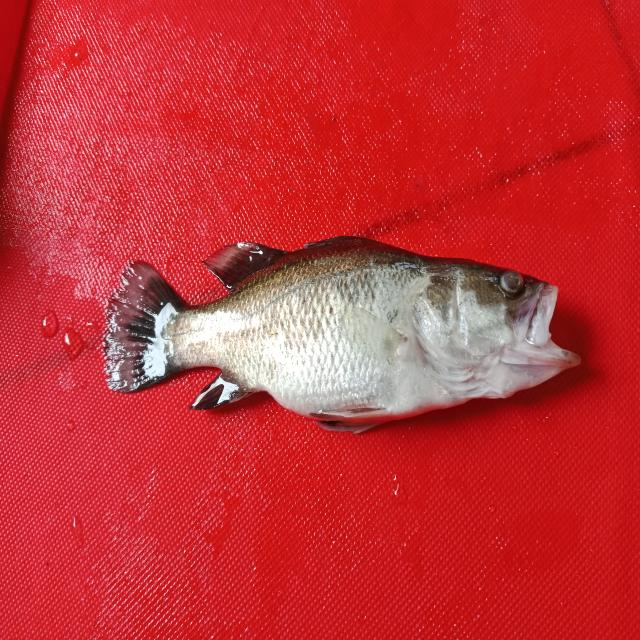ikan: (90, 219, 605, 456)
